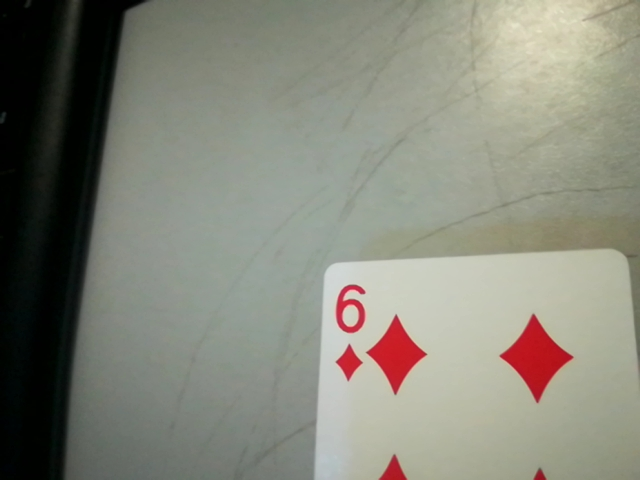fk 6: (321, 276, 375, 386)
